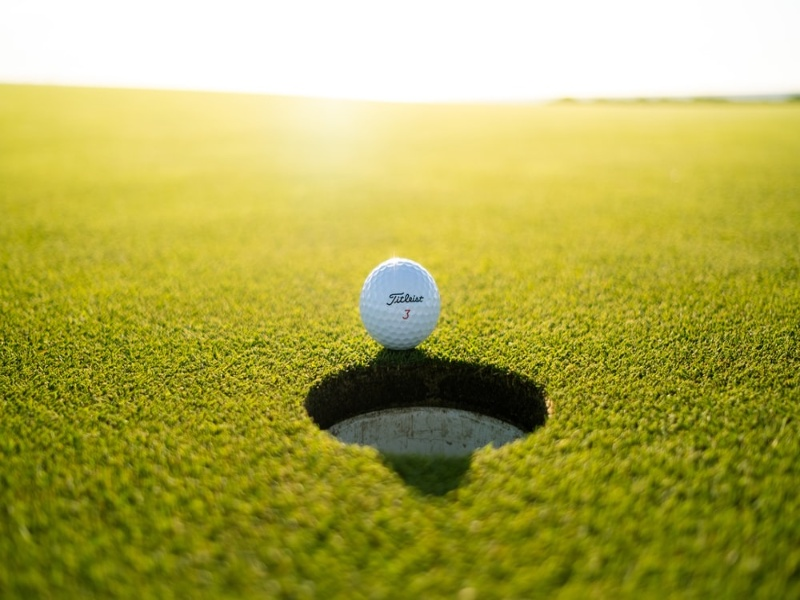golf_ball: (360, 258, 438, 350)
